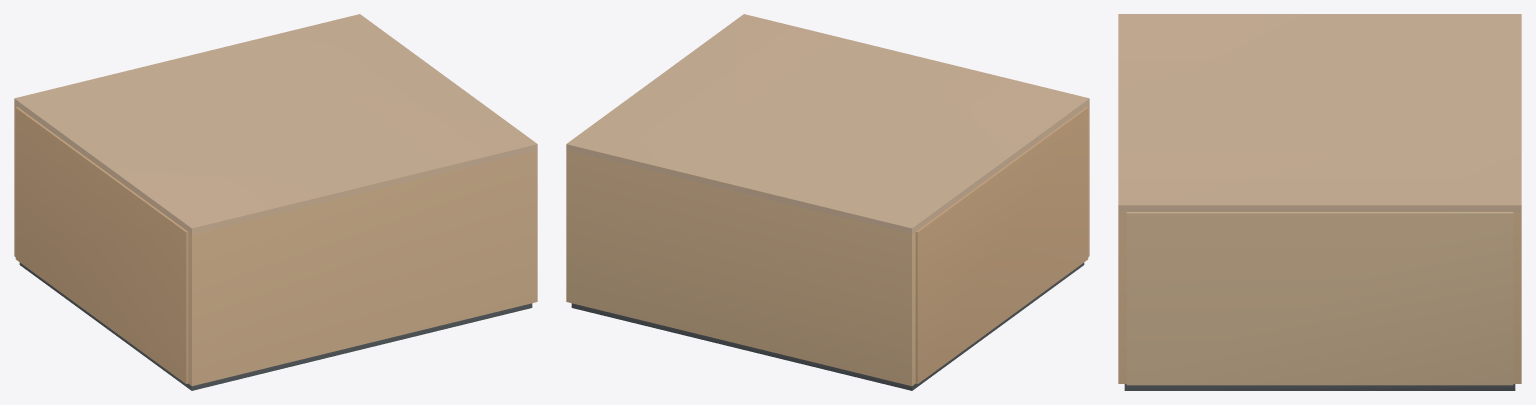
File: kitchen.glb
3 views of the same model, side by side, from view 1: azimuth 30°, elevation 25°; view 2: azimuth 150°, elevation 25°; view 3: azimuth 270°, elevation 25° (orthographic). The views are drawn at different scales.
Parts seen in each view (by area): view 1: Kitchen shell and checkerboard; view 2: Kitchen shell and checkerboard; view 3: Kitchen shell and checkerboard.
Boxes of the visible parts, x1,y1,x2,y2 form: Kitchen shell and checkerboard: (14,14,537,390); Kitchen shell and checkerboard: (566,14,1089,390); Kitchen shell and checkerboard: (1118,14,1521,390).
Bounding box in the file's own units: 6.64 × 2.99 × 5.84.
